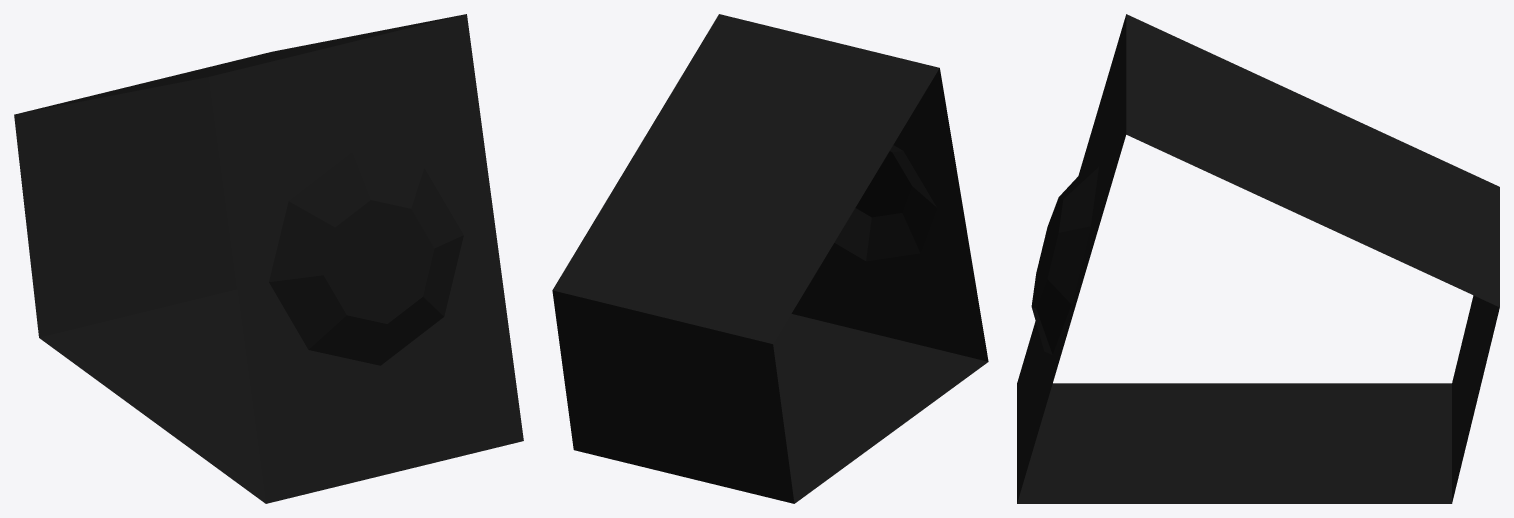
The model's file is Itr_Obj_Speaker2_Middle_02.FBX.
3 views of the same model, side by side, from view 1: azimuth 30°, elevation 25°; view 2: azimuth 150°, elevation 25°; view 3: azimuth 270°, elevation 25° (orthographic). The views are drawn at different scales.
Parts seen in each view (by area): view 1: Itr_Obj_Speaker2_Middle_02; view 2: Itr_Obj_Speaker2_Middle_02; view 3: Itr_Obj_Speaker2_Middle_02.
Boxes of the visible parts, left/top/right/bottom form: Itr_Obj_Speaker2_Middle_02: left=14, top=14, right=523, bottom=503; Itr_Obj_Speaker2_Middle_02: left=552, top=14, right=988, bottom=503; Itr_Obj_Speaker2_Middle_02: left=1017, top=14, right=1499, bottom=503.
Size of the model in its own units: 6.69 by 9.54 by 11.31.
